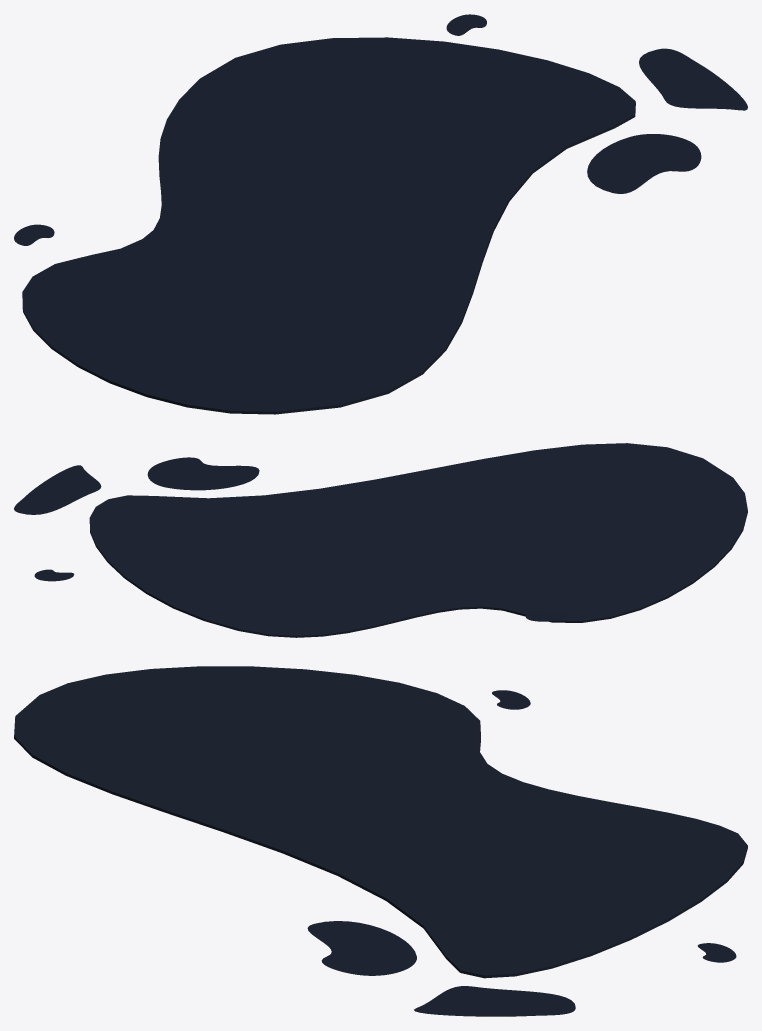
Rendered from LiquidoToxico.fbx.
3 views of the same model, one above another, from view 1: azimuth 30°, elevation 25°; view 2: azimuth 150°, elevation 25°; view 3: azimuth 270°, elevation 25° (orthographic). The views are drawn at different scales.
Parts seen in each view (by area): view 1: BézierCircle.004; view 2: BézierCircle.004; view 3: BézierCircle.004.
Boxes of the visible parts, bbox=[...] form: BézierCircle.004: bbox=[14, 14, 747, 414]; BézierCircle.004: bbox=[14, 443, 747, 637]; BézierCircle.004: bbox=[14, 666, 747, 1016].
Bounding box in the file's own units: 291 × 13.63 × 252.
